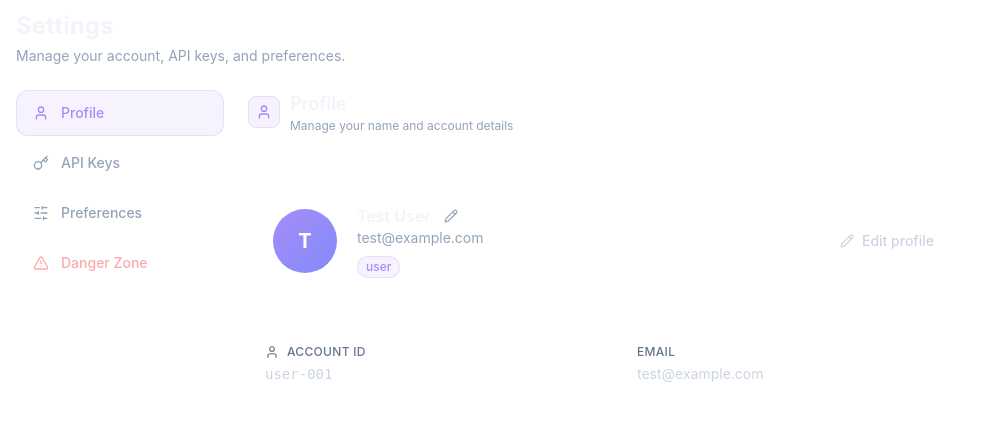
Test: API Keys section › lists API keys after loading
Step 1. Click the button "API Keys" → (120, 163), box [16,140,224,186]
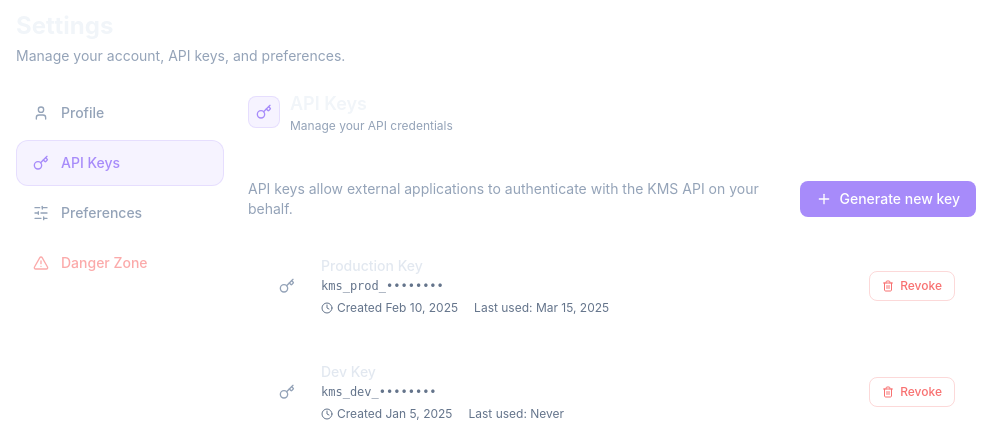
Result: the text "Production Key" is shown at [321,257,423,274]
Result: the text "Dev Key" is shown at [321,363,376,380]
